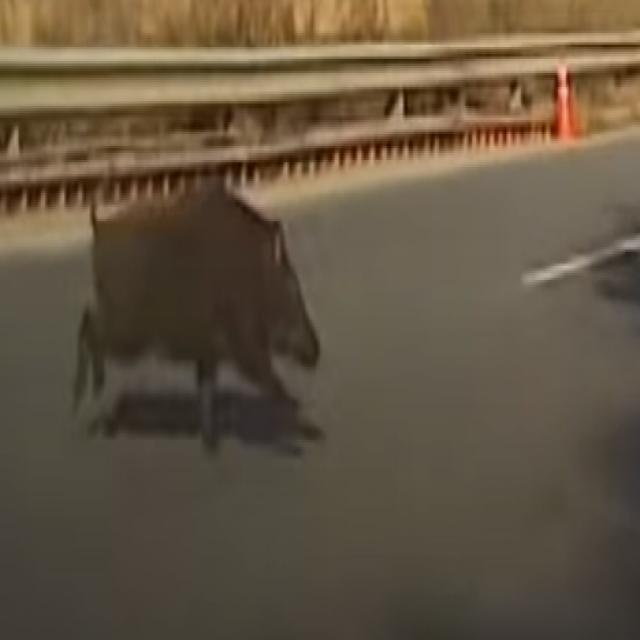boar: (50, 144, 336, 453)
